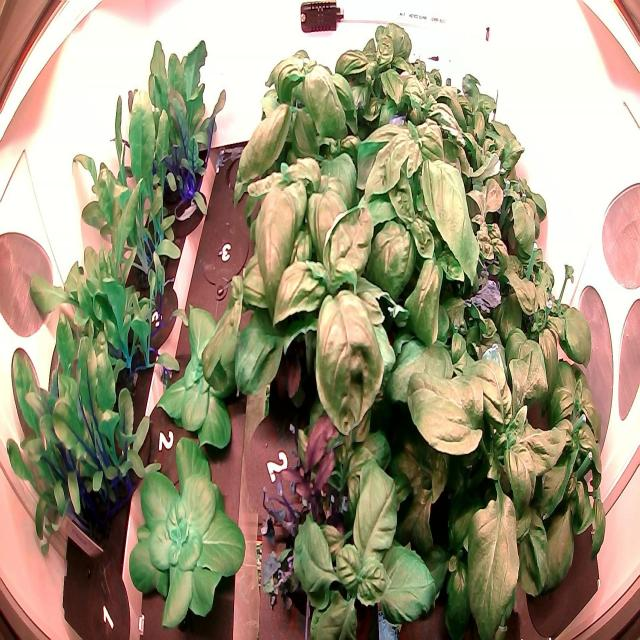empty_pod: (194, 211, 256, 305), (222, 133, 274, 214)
young: (127, 432, 250, 638), (155, 298, 257, 457)
